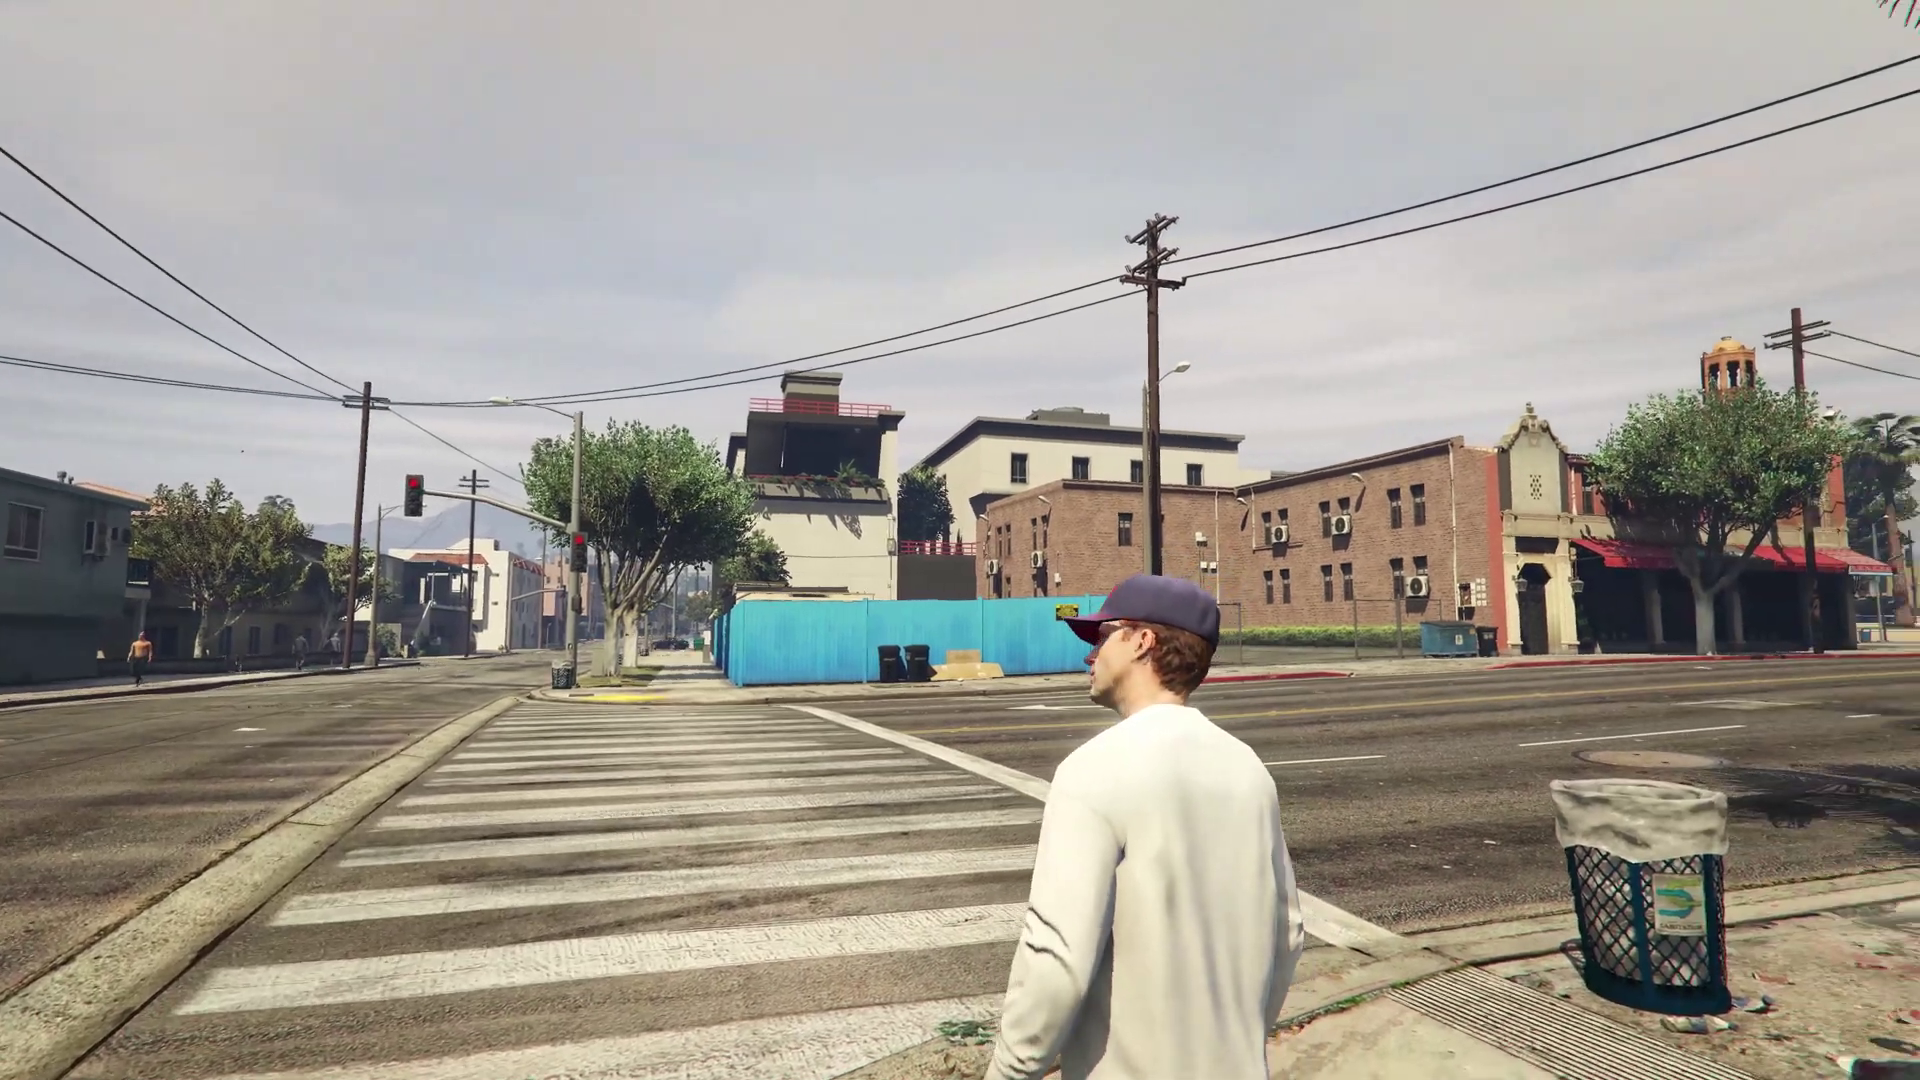person: (985, 576, 1305, 1080), (126, 629, 152, 690), (291, 633, 310, 671), (329, 631, 341, 666)
traffic light: (571, 532, 588, 576), (404, 475, 420, 518)
